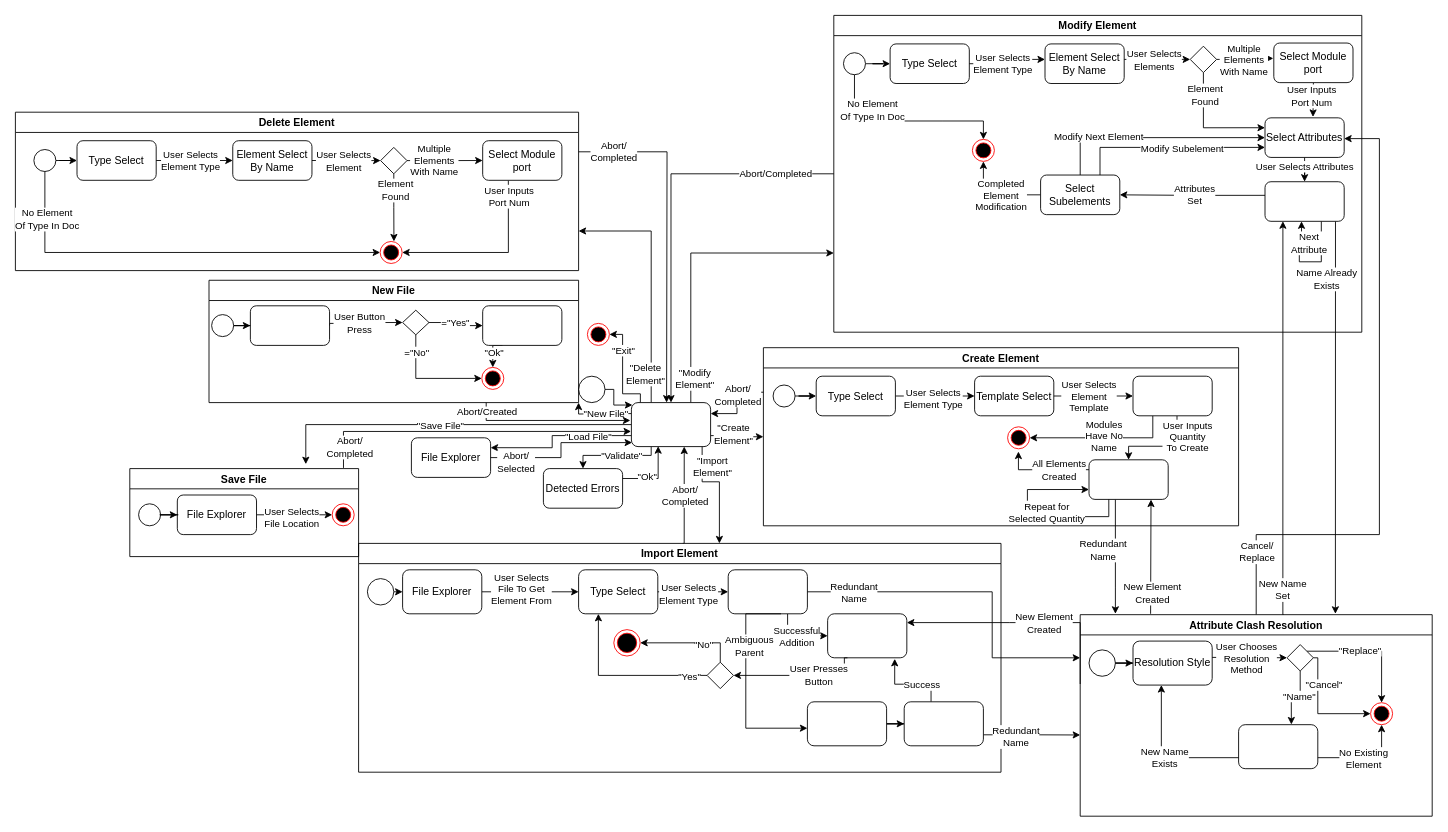
Some shapes in this 1448 by 832 pixel diagram are drawn without their labels. Each missing label, with the centre of its shape:
"ActionSelect" belongs at (x=671, y=424).
"Add Another From File?" belongs at (x=867, y=635).
"Confirm File Creation" belongs at (x=289, y=325).
"Confirm Successful Creation" belongs at (x=522, y=325).
"Element Select" belongs at (x=767, y=591).
"New Element Name Input" belongs at (x=943, y=723).
"Quantity Select" belongs at (x=1172, y=395).
"Select Parent Element" belongs at (x=847, y=723).
"Set Attribute Value" belongs at (x=1304, y=201).
"Set Name" belongs at (x=1128, y=479).
"Text Input" belongs at (x=1278, y=746).
